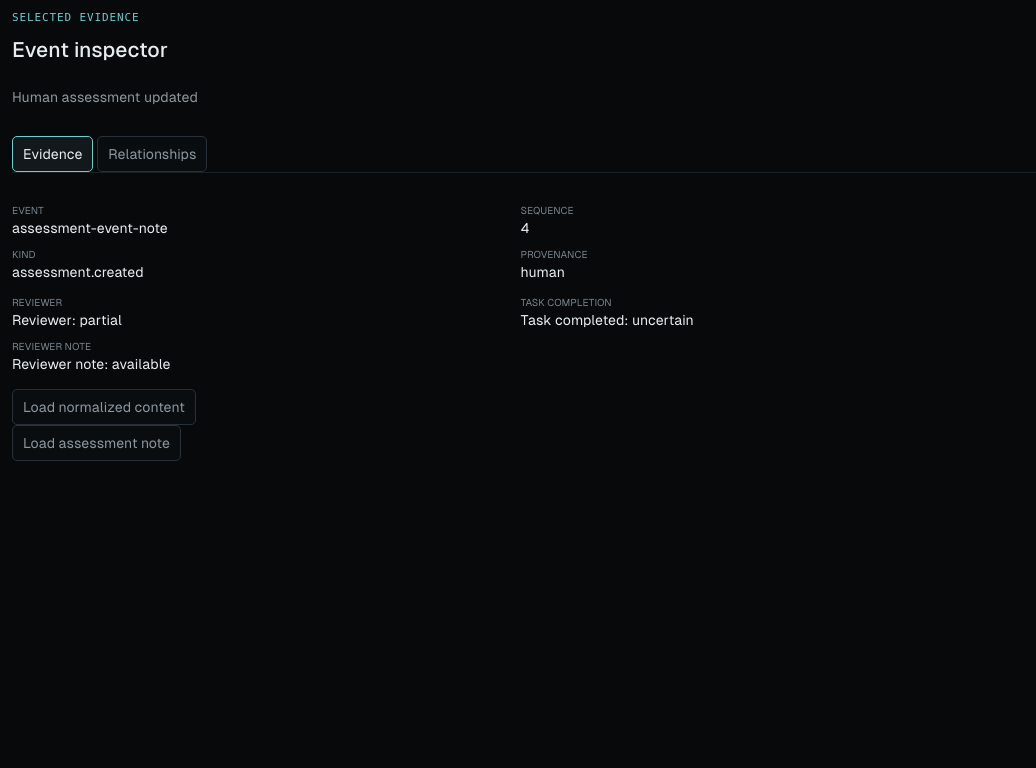
assessment event evidence › shows separate reviewer facts for a note that is available and fetches bytes only by exact event action
Expected: the text "Reviewer: partial" is shown, [12, 312, 122, 328]
Expected: the text "Task completed: uncertain" is shown, [520, 312, 694, 328]
What coordinates should you click on to do the following:
click the button "Load assessment note"
I would click on:
 (96, 443)
Its box is [12, 425, 181, 461].
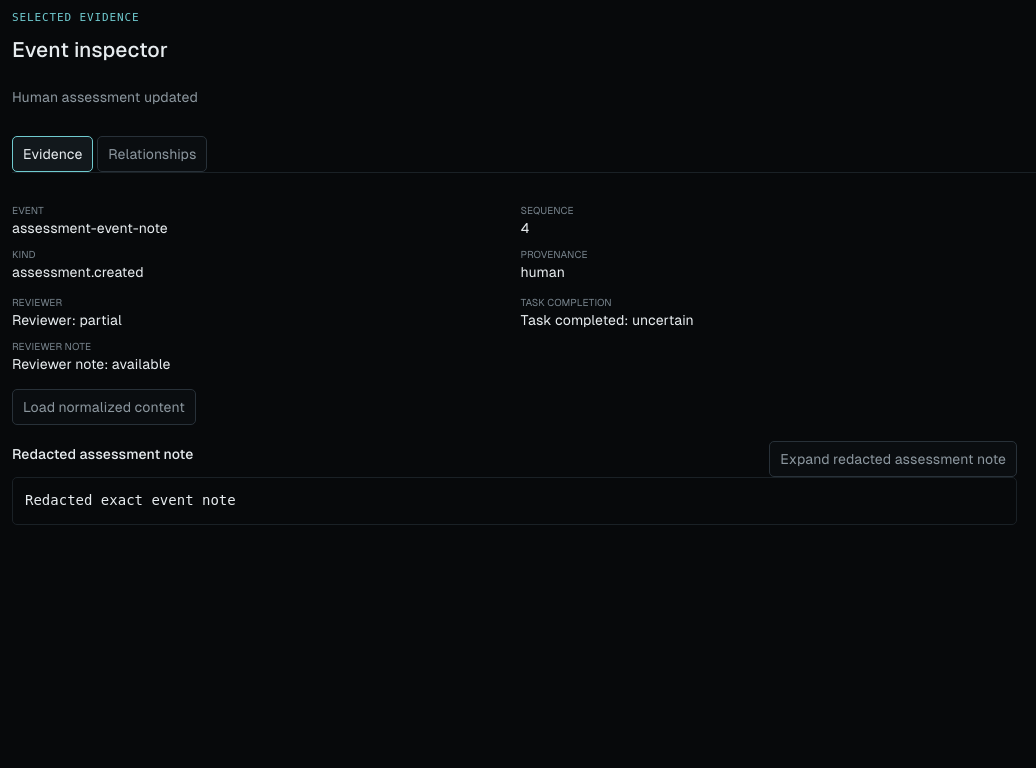
Result: the text "Redacted exact event note" is shown at [25, 492, 236, 508]
